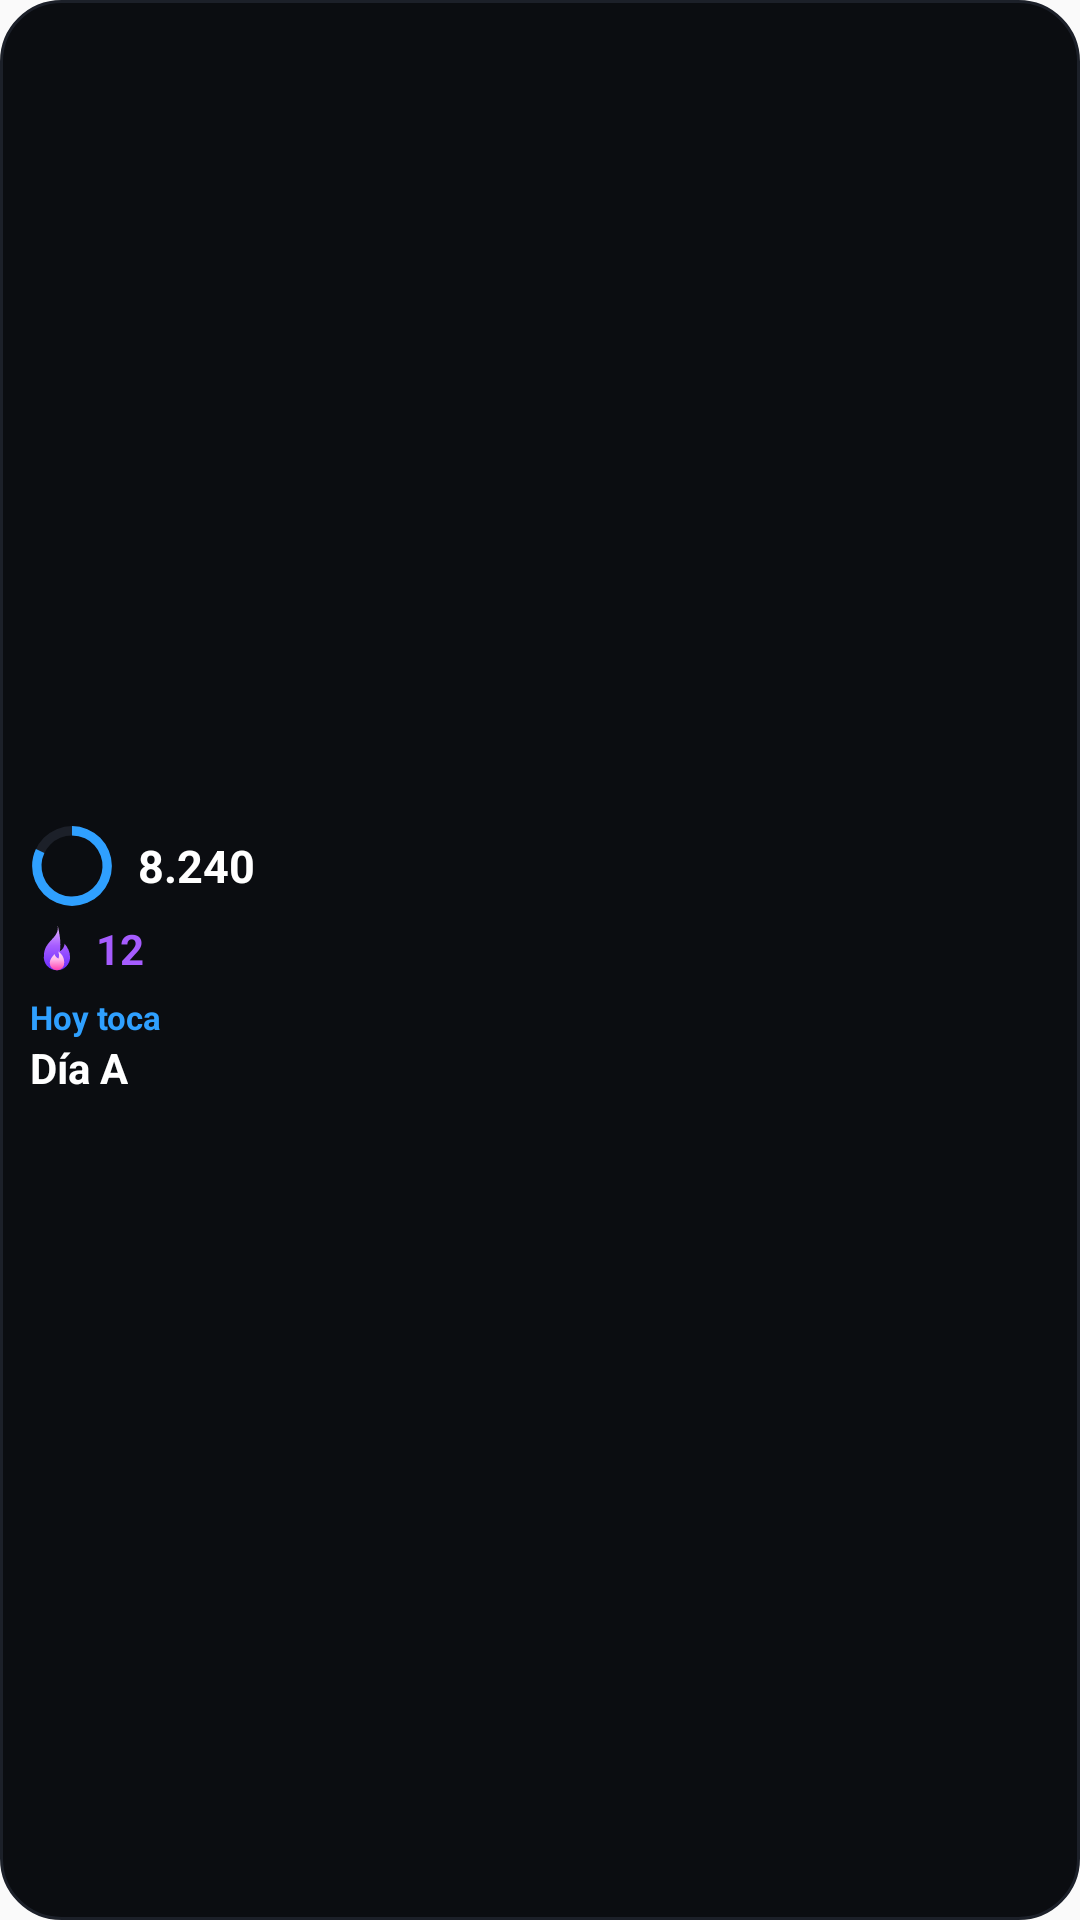

Icons on this 1080 x 1920 Android screen, each with the point to tap as (x=x, y=y):
Racha: (x=56, y=948)
